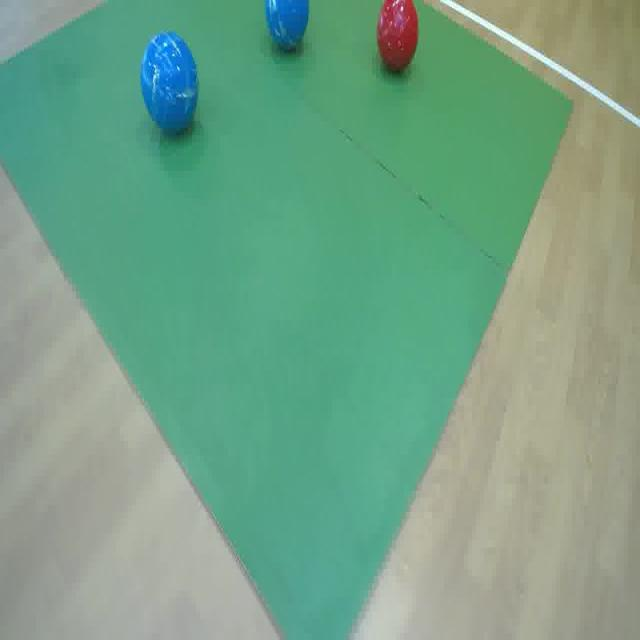blue_ball: (138, 31, 200, 132), (265, 0, 311, 54)
red_ball: (376, 0, 420, 75)
